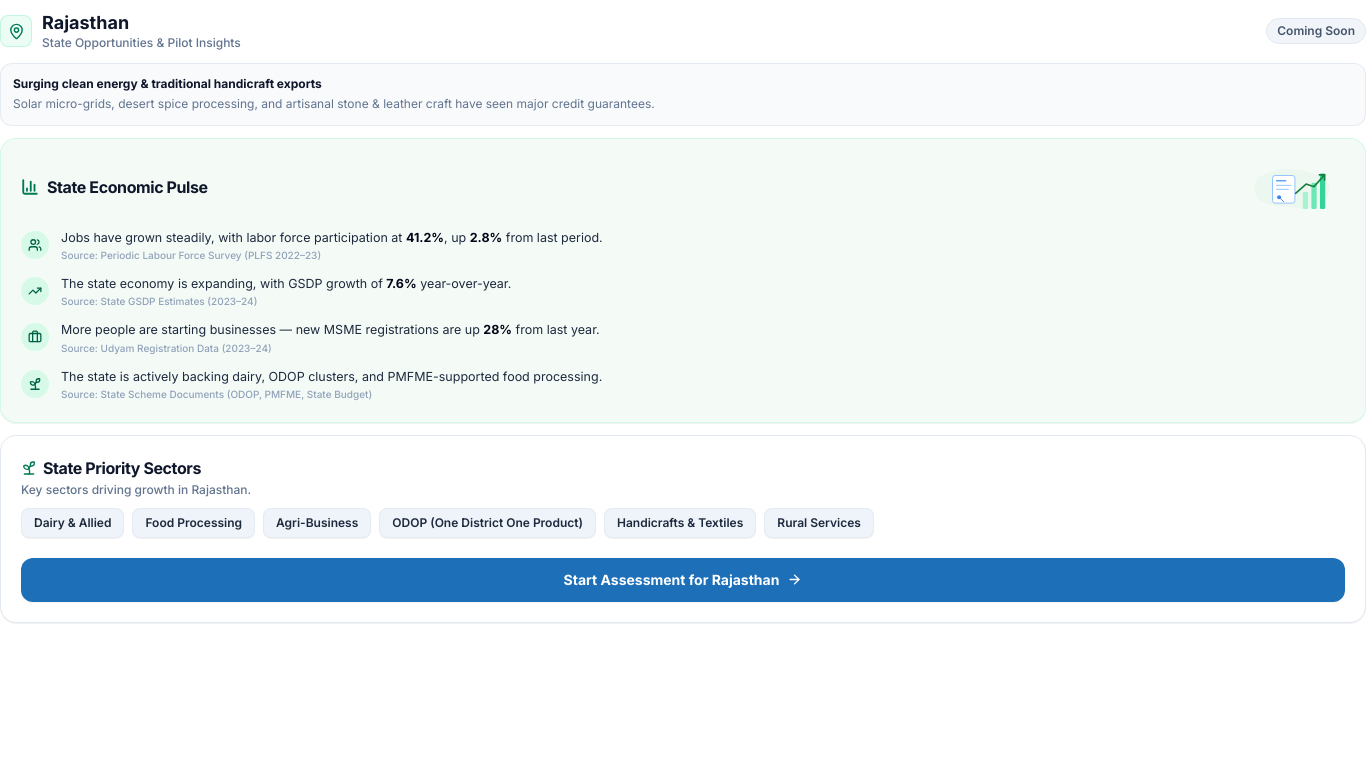
Test: Discover Page Layout and Interactions › StateInsightsBar (Start Assessment Pilot Rule) › shows coming soon message when state is not Uttar Pradesh
Click the button "Start Assessment for Rajasthan" at coordinates (683, 580), box [21, 558, 1345, 602]
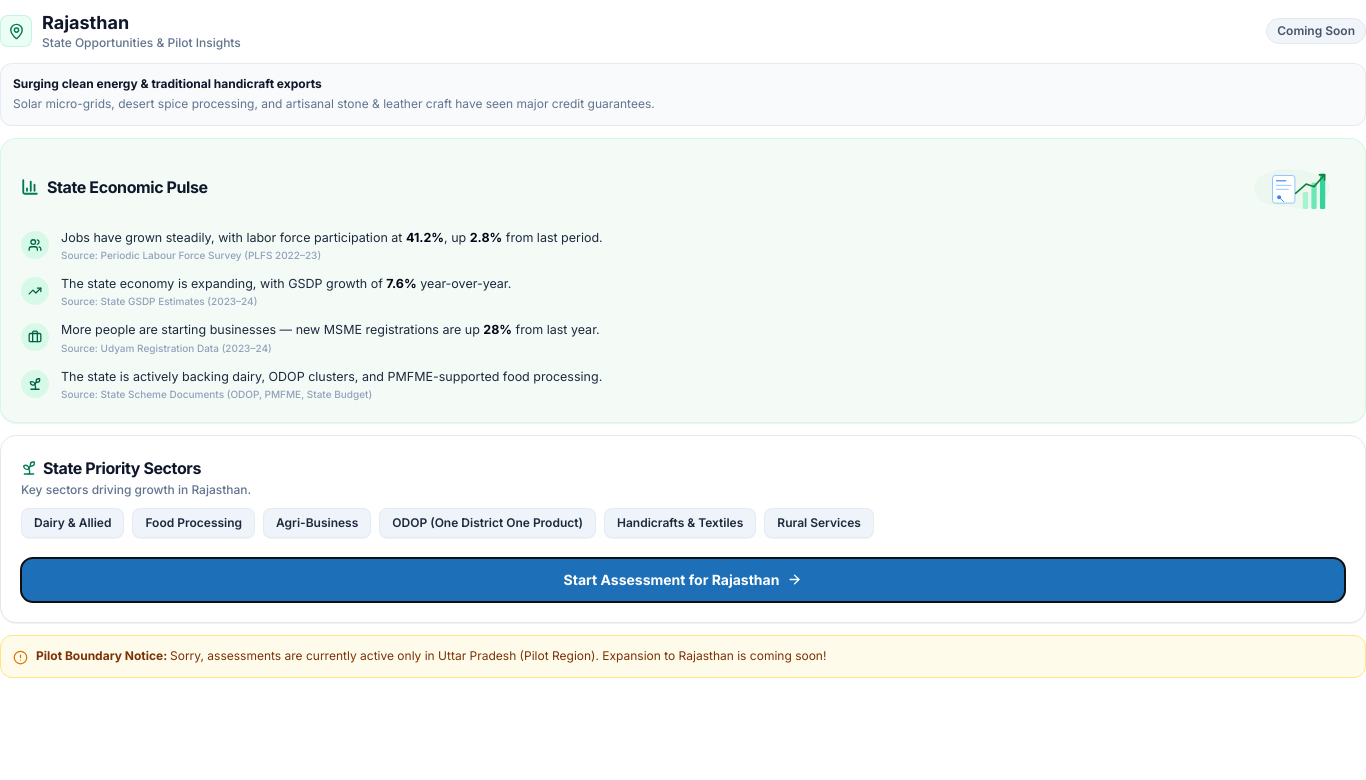
Expected: the message is shown, [0, 635, 1365, 678]
Expected: the text "Expansion to Rajasthan is coming soon" is shown, [170, 648, 826, 663]
